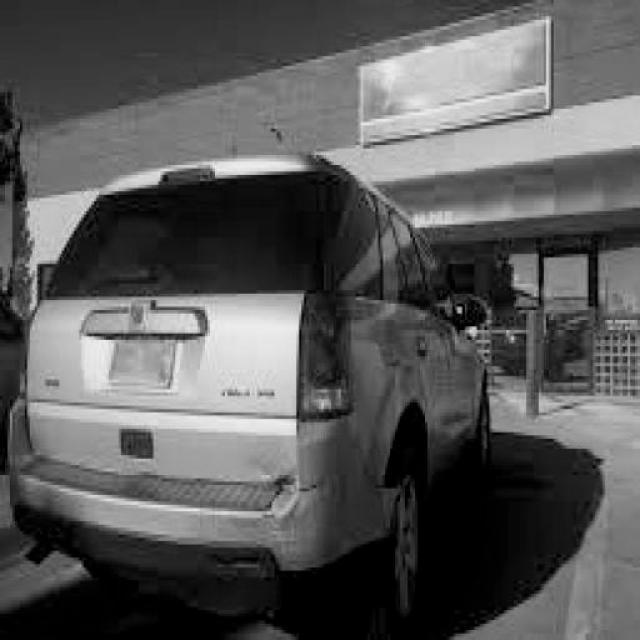car damage: (255, 460, 340, 540)
